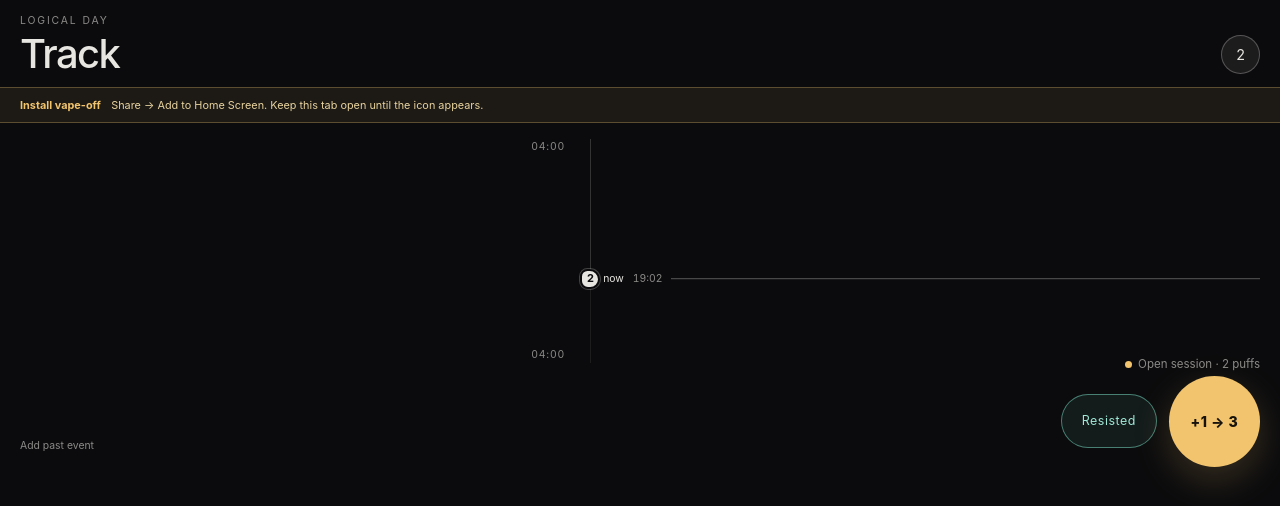
Marking a Kick › grows no chrome for either route, and asks nothing after a sitting
This screenshot has width=1280, height=506.
Press the mouse on the button named "Puff Session, 2 puffs at 19:00" at (590, 279), box 580,269 -> 600,289
Click the button named "Puff Session, 2 puffs at 19:00" at (590, 279), box 580,269 -> 600,289
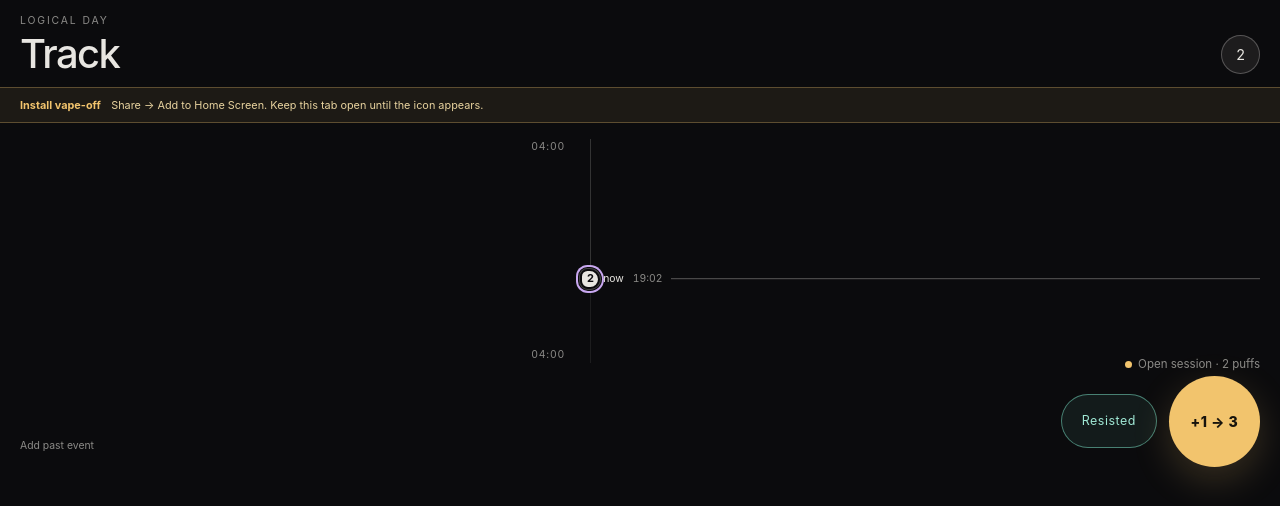
Expected: the buttons read "Resisted", "+1 → 3", in this order, 1061,394 -> 1157,448; 1169,376 -> 1260,467
Now the button named "Puff Session, 2 puffs at 19:00, Kicked" is shown, box 580,269 -> 600,289
